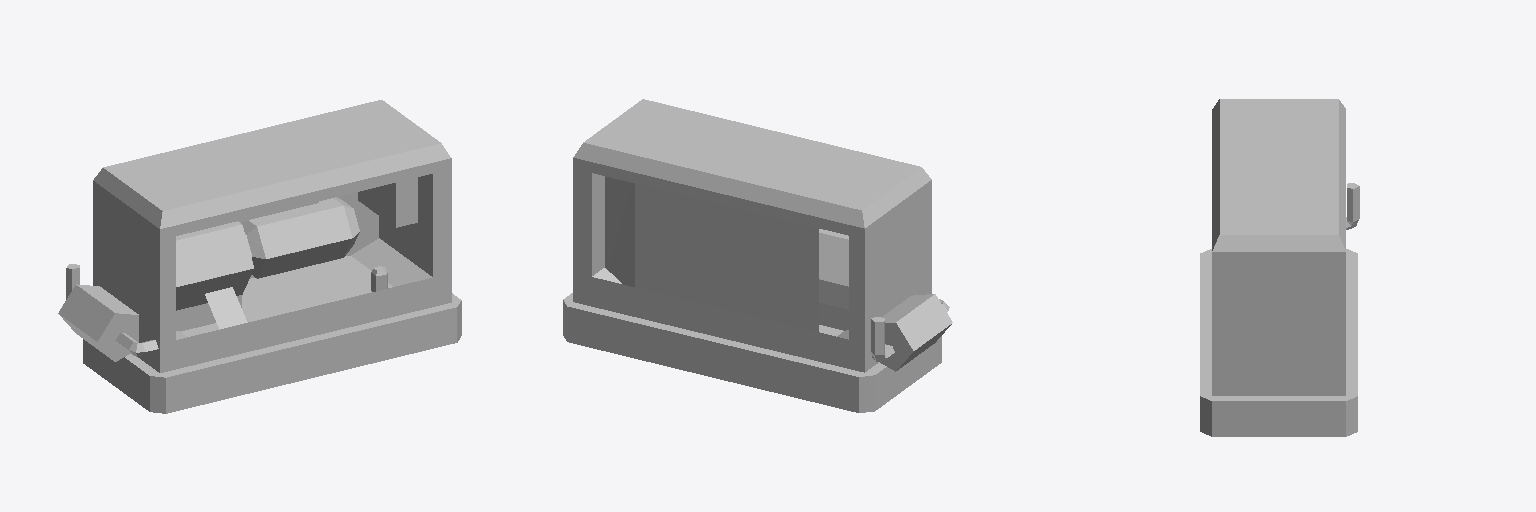
The model's file is generator.obj.
3 views of the same model, side by side, from view 1: azimuth 30°, elevation 25°; view 2: azimuth 150°, elevation 25°; view 3: azimuth 270°, elevation 25° (orthographic).
Visible parts, largest first — view 1: genv01.bmp, genv02.bmp; view 2: genv01.bmp, genv02.bmp; view 3: genv01.bmp, genv02.bmp.
Part boxes in pixels (bbox=[...]): genv01.bmp: bbox=[83, 143, 461, 413]; genv02.bmp: bbox=[58, 100, 440, 361]; genv01.bmp: bbox=[563, 143, 941, 412]; genv02.bmp: bbox=[583, 99, 952, 371]; genv01.bmp: bbox=[1200, 99, 1357, 436]; genv02.bmp: bbox=[1220, 99, 1359, 234].
Size of the model in its own units: 13.87 by 7.49 by 5.56.